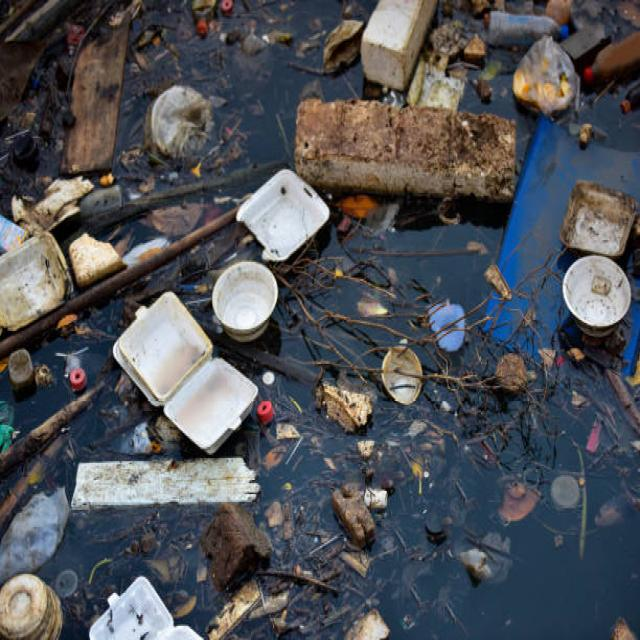garbage: (304, 304, 559, 520), (0, 511, 304, 639), (112, 288, 268, 460), (450, 3, 640, 123), (0, 0, 125, 172), (65, 447, 276, 524), (564, 178, 640, 343), (0, 214, 81, 347), (237, 162, 328, 268), (134, 76, 228, 172)
